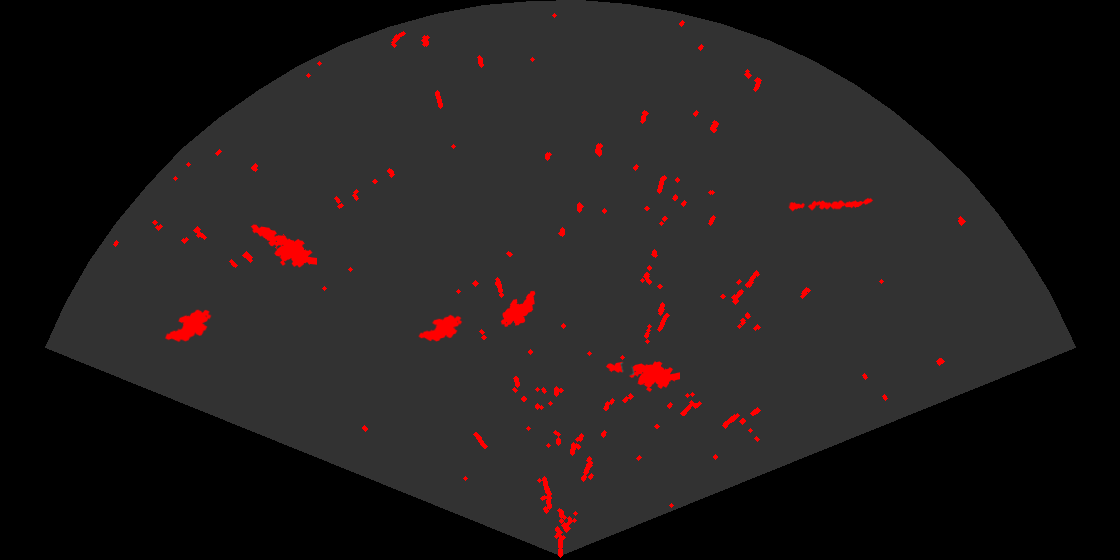AUV: (163, 308, 213, 344), (499, 289, 537, 329), (417, 313, 464, 343)
chain: (788, 196, 874, 213)
frogman: (249, 223, 317, 269), (604, 360, 680, 394)
